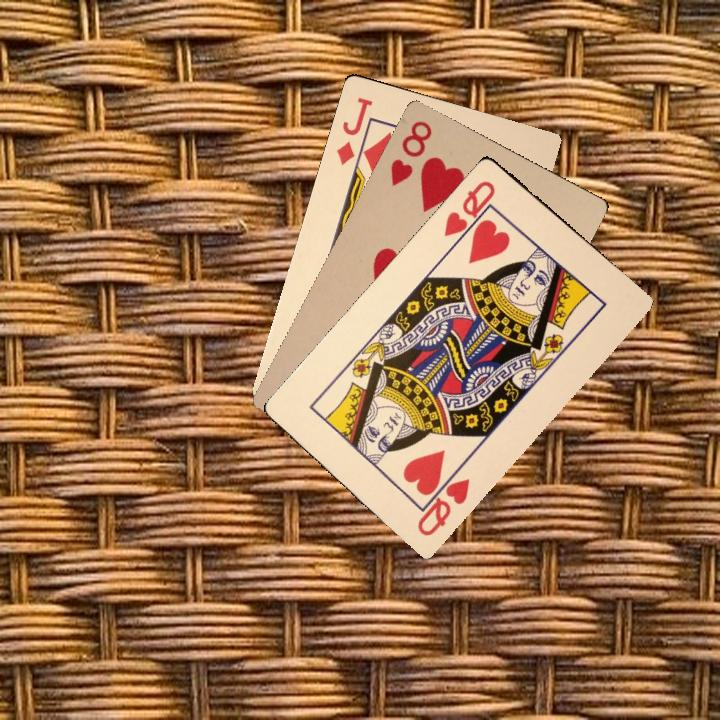8h: (386, 116, 435, 189)
Jd: (332, 93, 375, 167)
Qh: (413, 463, 473, 539), (439, 176, 498, 248)
